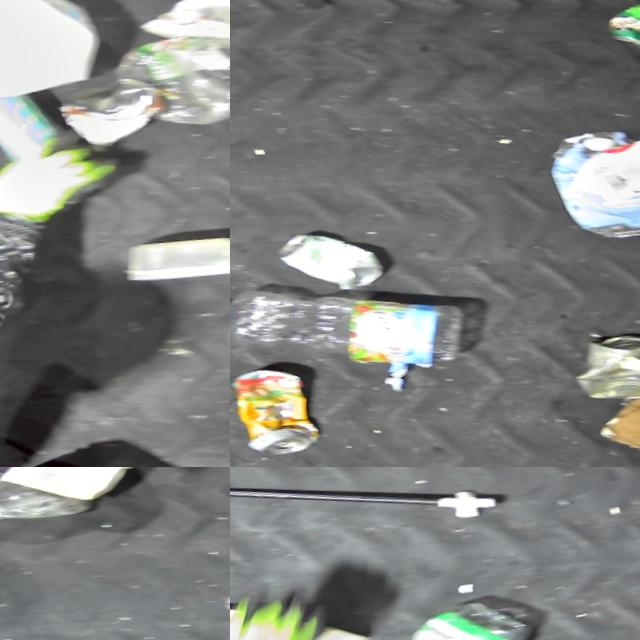can: (230, 357, 321, 459), (267, 219, 386, 295), (52, 67, 162, 149), (561, 312, 640, 403), (600, 0, 640, 49)
milk_jug: (0, 0, 109, 114)
plastic_bottle: (230, 261, 467, 387), (0, 467, 93, 539)
